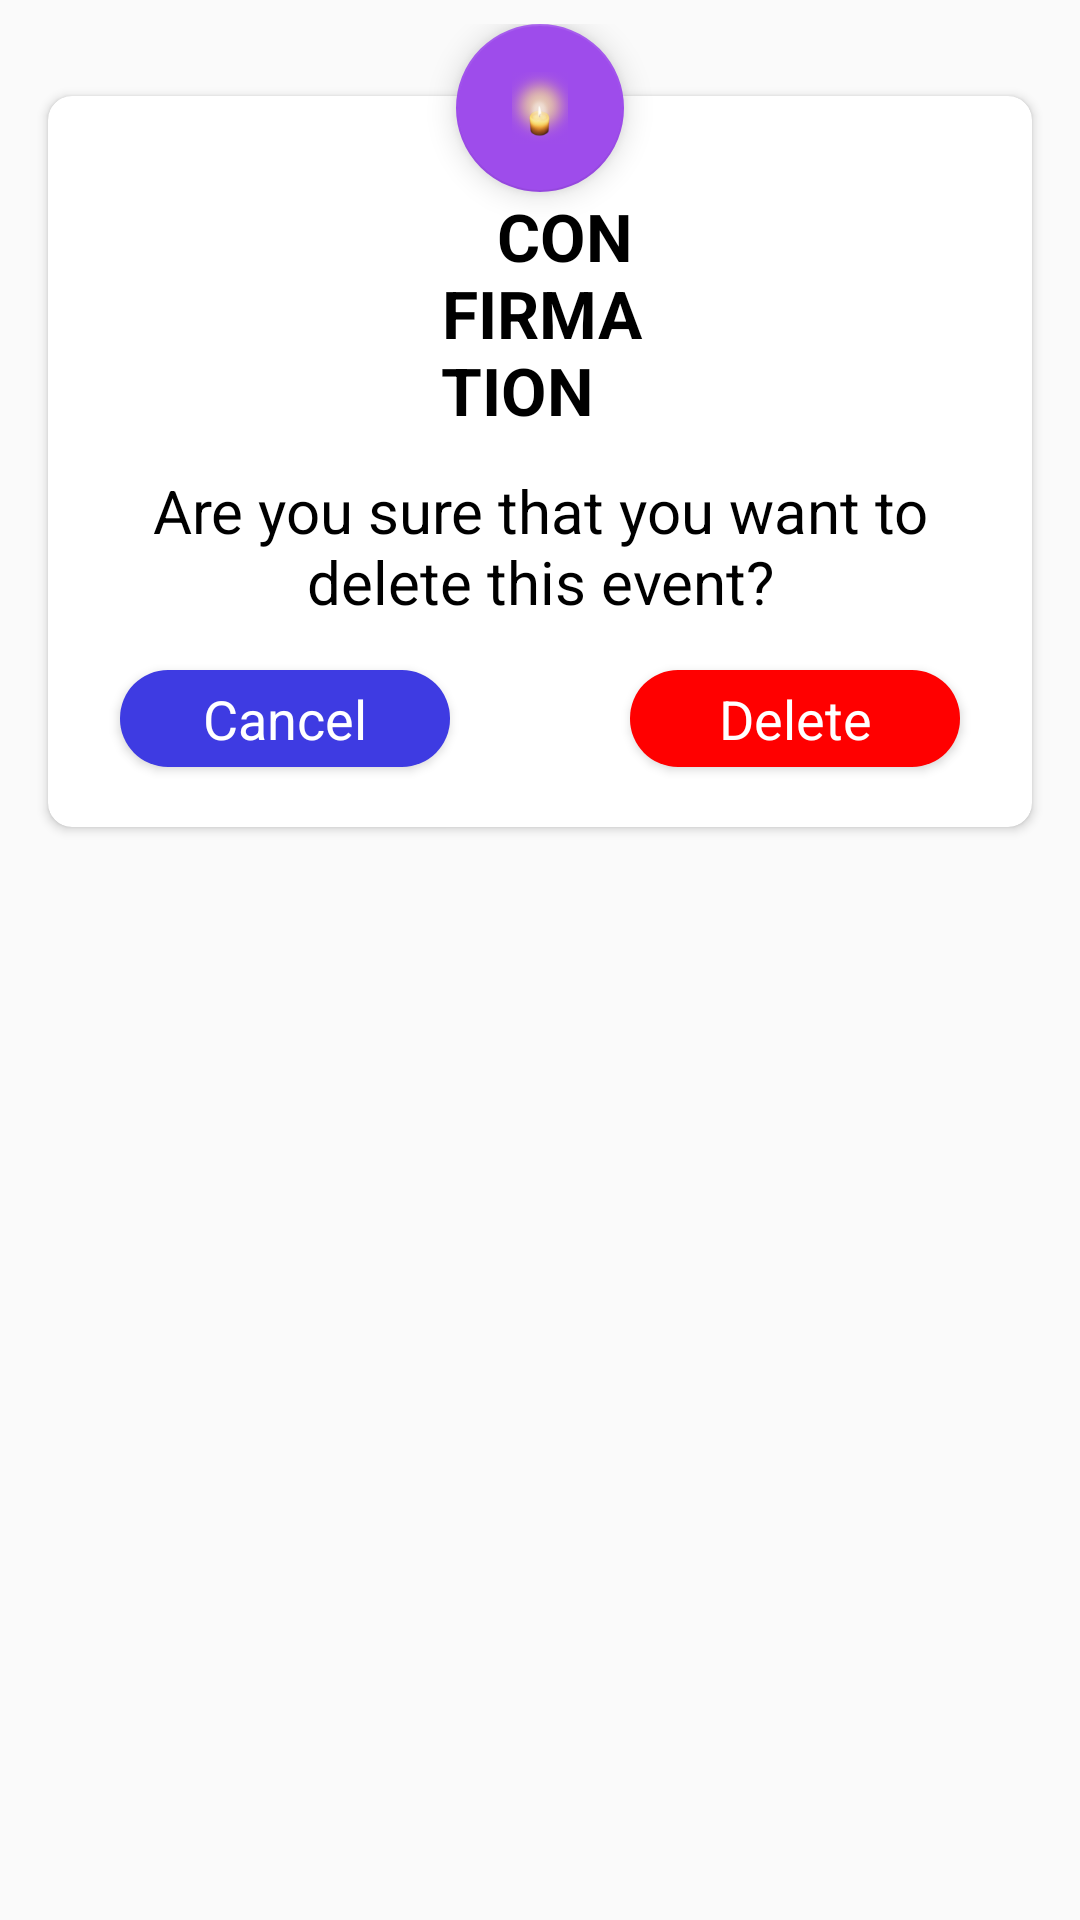

Where to tap for icons on this 1080 x 1920 app screen, as point (x, y):
candle: point (540, 108)
